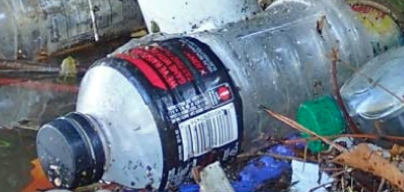garbage: (1, 1, 404, 191)
